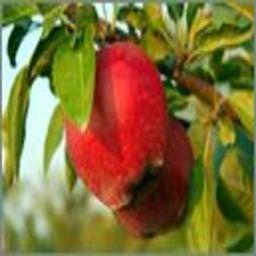apple: (62, 41, 167, 211), (113, 111, 193, 236)
